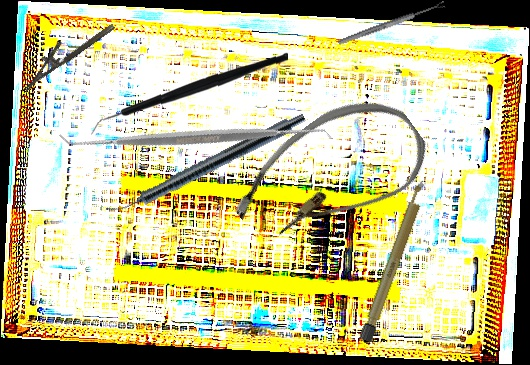Cannula: (219, 75, 441, 277)
Chopper: (91, 48, 288, 140)
Handpiece: (104, 106, 308, 224)
Needle Holder: (14, 11, 116, 92)
Scalpel Handle: (359, 179, 430, 343)
Spatula Surgical: (58, 0, 333, 274)
Surgical Spoon: (337, 0, 446, 47)
